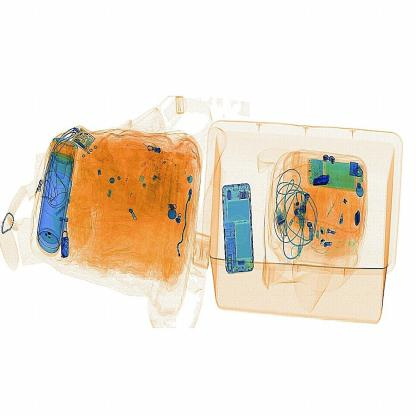knife: (311, 172, 335, 188)
